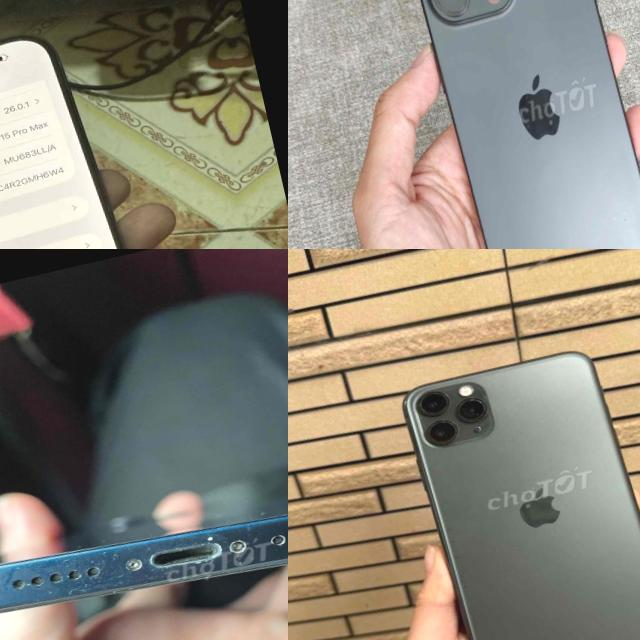scratch: (0, 473, 288, 640), (411, 374, 496, 448)
